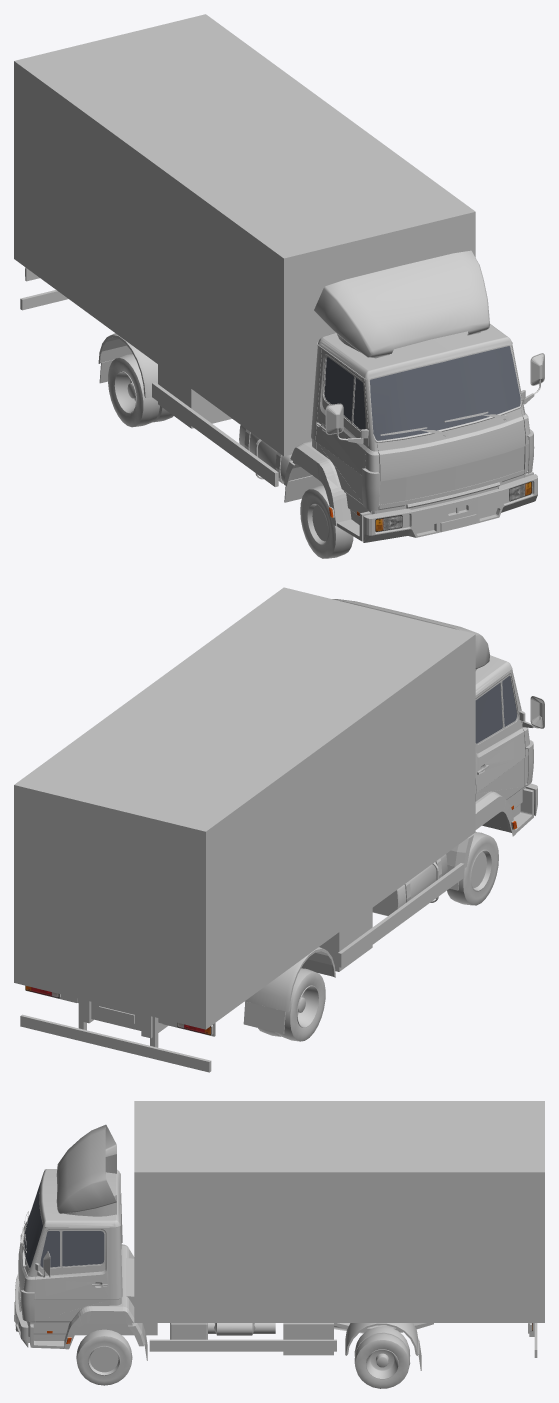
Rendered from Cargo Truck With Interior_white.FBX.
3 renders of one model, top to bottom at view 1: azimuth 30°, elevation 25°; view 2: azimuth 150°, elevation 25°; view 3: azimuth 270°, elevation 25°, orthographic. The views are drawn at different scales.
Parts seen in each view (by area): view 1: Cargo Truck with Interior_White, Truck_White_WheelBR, Truck_White_WheelFR; view 2: Cargo Truck with Interior_White, Truck_White_WheelBR, Truck_White_WheelFR; view 3: Cargo Truck with Interior_White, Truck_White_WheelBL, Truck_White_WheelFL.
Boxes of the visible parts, <box> form: Cargo Truck with Interior_White: <box>14,14,544,542</box>; Truck_White_WheelBR: <box>108,354,173,427</box>; Truck_White_WheelFR: <box>300,485,353,558</box>; Cargo Truck with Interior_White: <box>14,587,544,1072</box>; Truck_White_WheelBR: <box>258,968,325,1041</box>; Truck_White_WheelFR: <box>447,832,498,905</box>; Cargo Truck with Interior_White: <box>14,1101,544,1370</box>; Truck_White_WheelBL: <box>354,1326,410,1388</box>; Truck_White_WheelFL: <box>76,1329,132,1385</box>.
Bounding box in the file's own units: 2.98 × 3.74 × 8.22.
